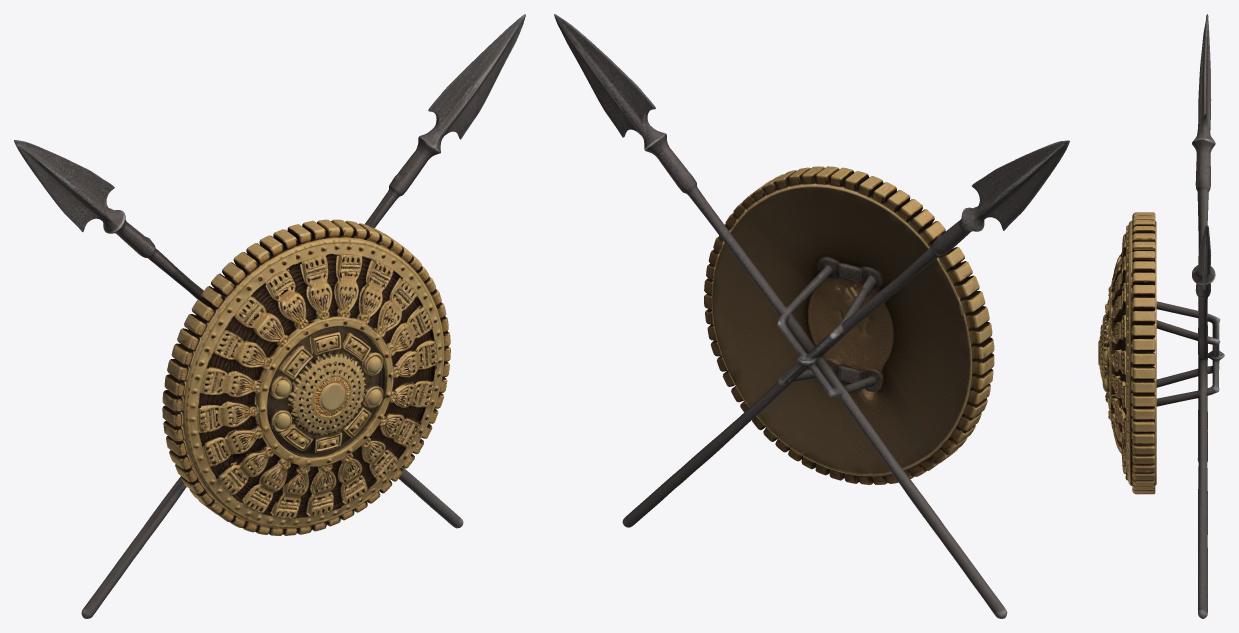
The model's file is taytu_statue.glb.
The picture shows the model from 3 angles, left to right: view 1: azimuth 30°, elevation 25°; view 2: azimuth 150°, elevation 25°; view 3: azimuth 270°, elevation 25°; orthographic projection. The views are drawn at different scales.
Parts seen in each view (by area): view 1: tripo_node_23958ce8-c308-4b9c-8704-0b68990c43f0; view 2: tripo_node_23958ce8-c308-4b9c-8704-0b68990c43f0; view 3: tripo_node_23958ce8-c308-4b9c-8704-0b68990c43f0.
Part boxes in pixels (x1,y1,x2,y2): tripo_node_23958ce8-c308-4b9c-8704-0b68990c43f0: (14, 14, 525, 618); tripo_node_23958ce8-c308-4b9c-8704-0b68990c43f0: (554, 14, 1069, 618); tripo_node_23958ce8-c308-4b9c-8704-0b68990c43f0: (1098, 14, 1224, 618).
Bounding box in the file's own units: 0.9818 × 0.9065 × 0.2463.
Materials: 1 (1 with a texture image).
